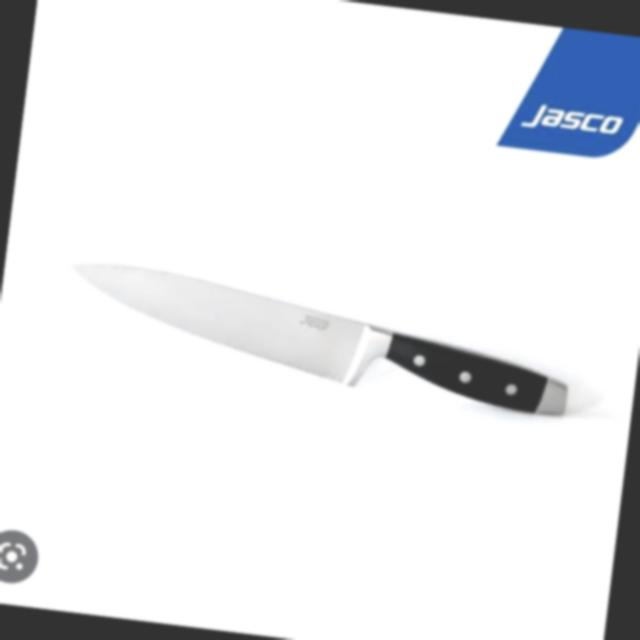knife: (34, 227, 608, 468)
